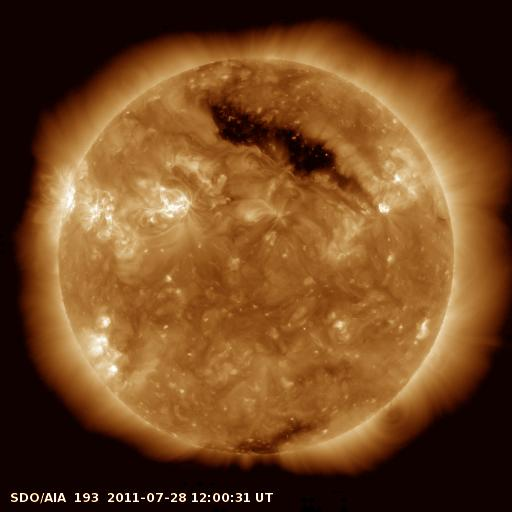coronal_hole: (206, 93, 366, 194), (202, 420, 323, 456)
